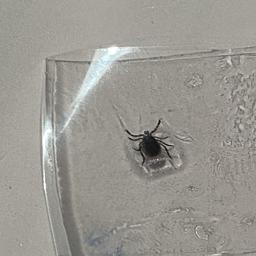Ixodes scapularis: (125, 131, 170, 170)
